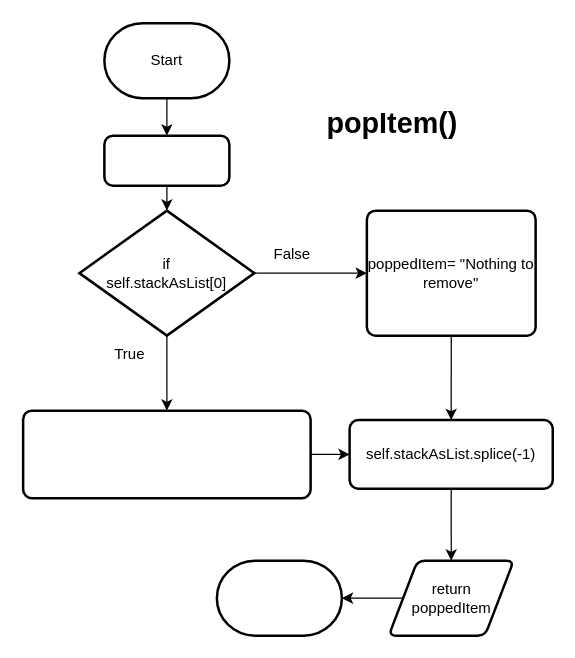
This 575x658 diagram has some shape labels left out. The shapes that lost their labels are listed below. From the top down, each one's centre as x and y in pixels, then its label:
(x=166, y=160): poppedItem = ""
(x=166, y=454): poppedItem = self.stackAsList[self.stackAsList.length-1]
(x=278, y=597): Stop
